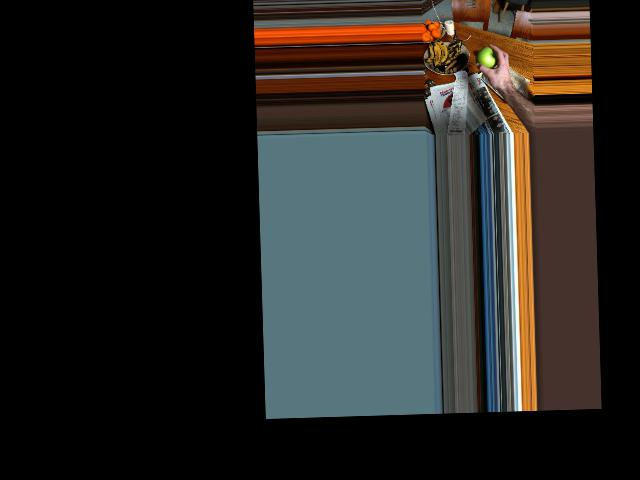apple: (477, 45, 498, 70)
